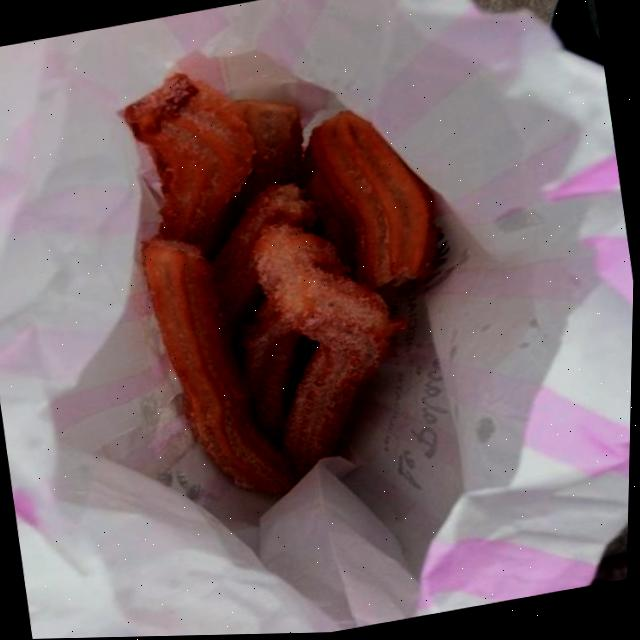炸货点心: (32, 0, 640, 629)
